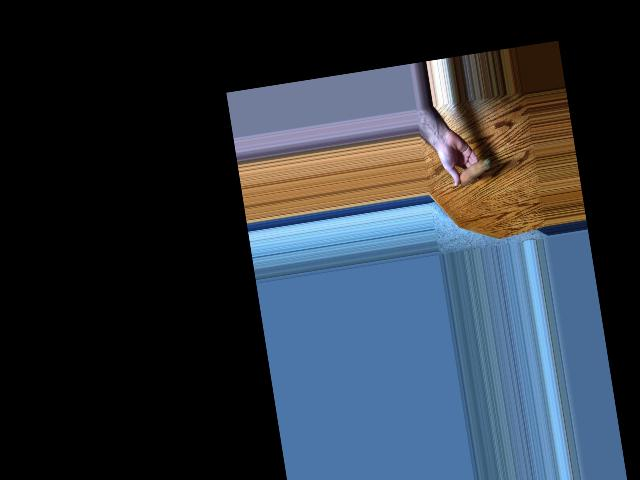sweet_potato: (454, 156, 493, 186)
